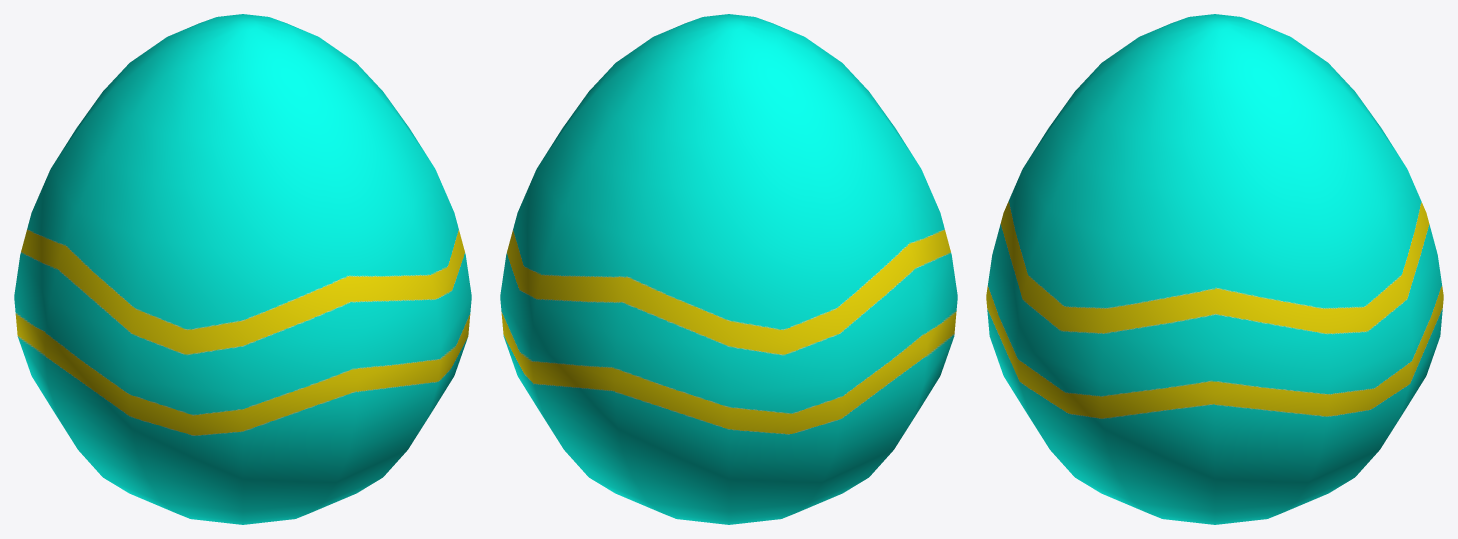
File: Egg 1.fbx
3 views of the same model, side by side, from view 1: azimuth 30°, elevation 25°; view 2: azimuth 150°, elevation 25°; view 3: azimuth 270°, elevation 25° (orthographic).
Visible parts, largest first — view 1: Sphere; view 2: Sphere; view 3: Sphere.
Part boxes in pixels (x1,y1,x2,y2): Sphere: (14, 14, 471, 524); Sphere: (500, 14, 957, 524); Sphere: (986, 14, 1443, 524).
Bounding box in the file's own units: 2 × 2 × 2.29.
Materials: 1 (1 with a texture image).
